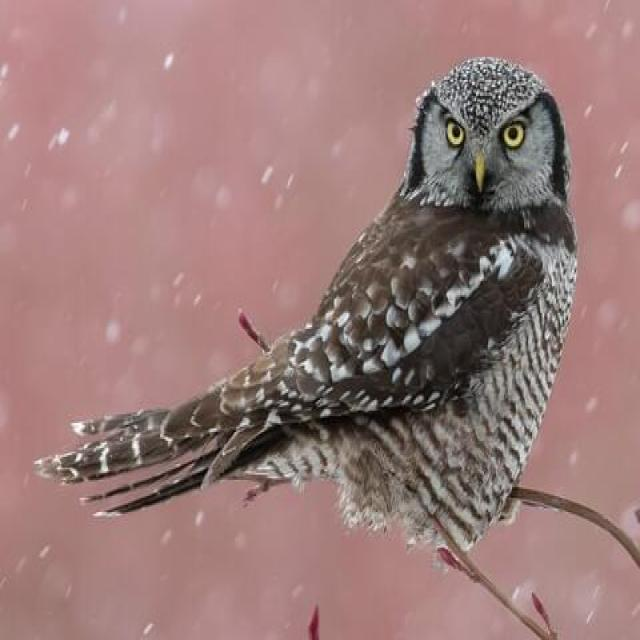owl: (26, 42, 593, 559)
